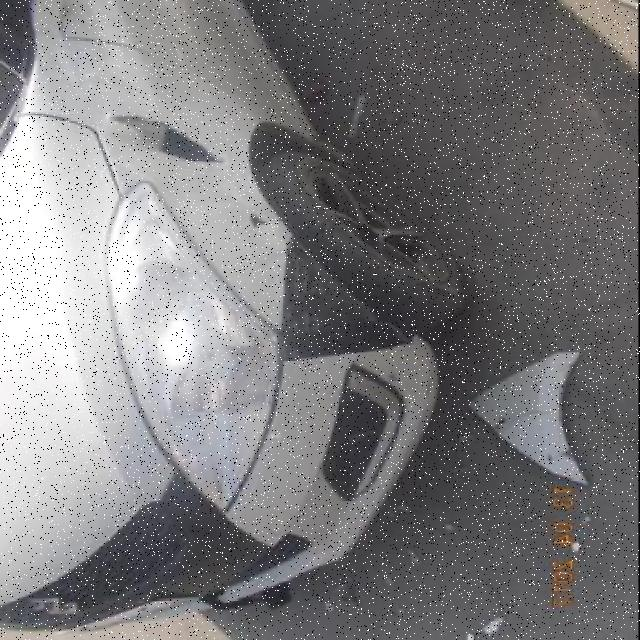damage: (285, 235, 422, 361), (104, 105, 235, 166), (246, 206, 274, 234)
